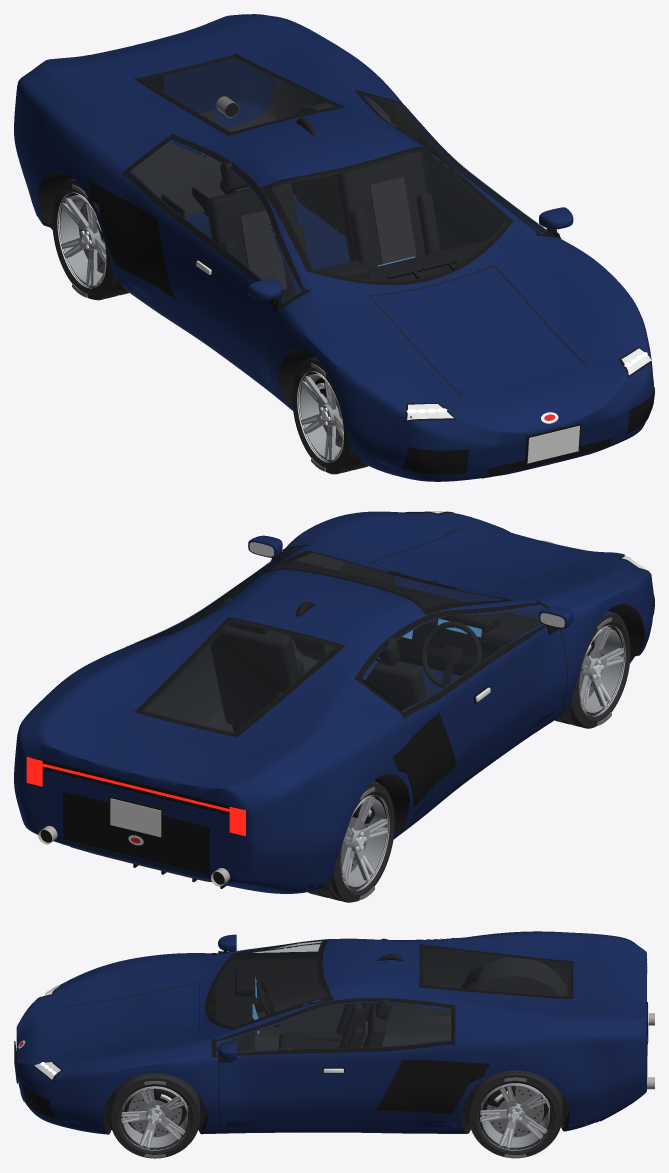
The model's file is gts.glb.
The picture shows the model from 3 angles, top to bottom: view 1: azimuth 30°, elevation 25°; view 2: azimuth 150°, elevation 25°; view 3: azimuth 270°, elevation 25°; orthographic projection. The views are drawn at different scales.
Parts seen in each view (by area): view 1: Body, Wheel_RR, Wheel_FR; view 2: Body, Wheel_RR, Wheel_FR; view 3: Body, Wheel_RL, Wheel_FL.
Boxes of the visible parts, x1,y1,x2,y2 form: Body: [14, 14, 654, 481]; Wheel_RR: [52, 178, 128, 300]; Wheel_FR: [292, 357, 368, 474]; Body: [14, 510, 654, 893]; Wheel_RR: [308, 781, 394, 902]; Wheel_FR: [555, 611, 630, 728]; Body: [14, 931, 654, 1134]; Wheel_RL: [468, 1070, 562, 1158]; Wheel_FL: [110, 1073, 200, 1158].
Bounding box in the file's own units: 2.08 × 1.26 × 4.76.
